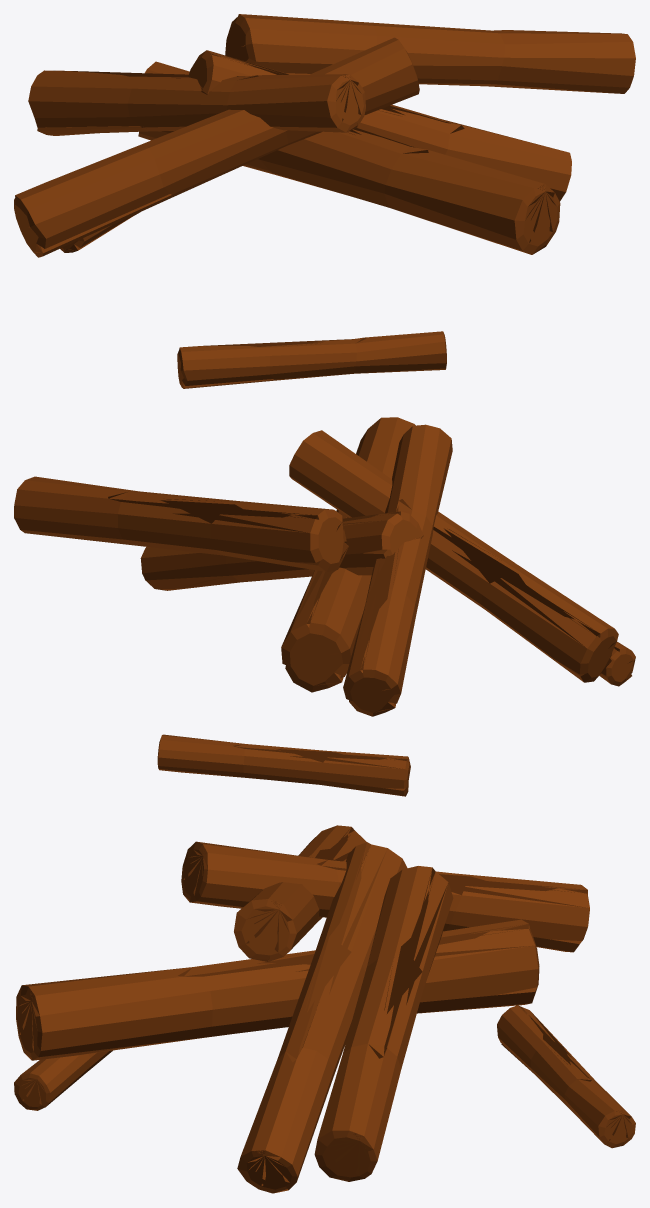
Rendered from Wood.fbx.
The picture shows the model from 3 angles, top to bottom: view 1: azimuth 30°, elevation 25°; view 2: azimuth 150°, elevation 25°; view 3: azimuth 270°, elevation 25°; orthographic projection. The views are drawn at different scales.
Visible parts, largest first — view 1: Wood; view 2: Wood; view 3: Wood.
Part boxes in pixels (box(x1,y1,x2,y2)): Wood: box(14, 14, 635, 388); Wood: box(14, 417, 635, 796); Wood: box(14, 825, 635, 1193).
Bounding box in the file's own units: 151 × 59.91 × 125.
